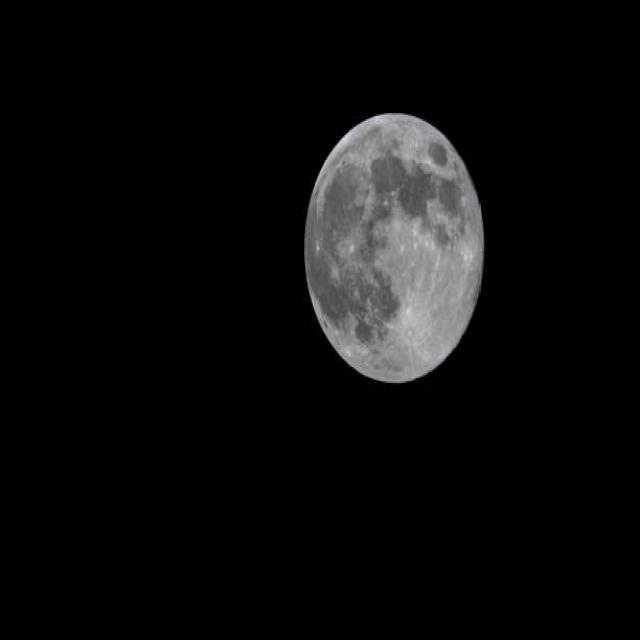moon: (304, 110, 479, 386)
